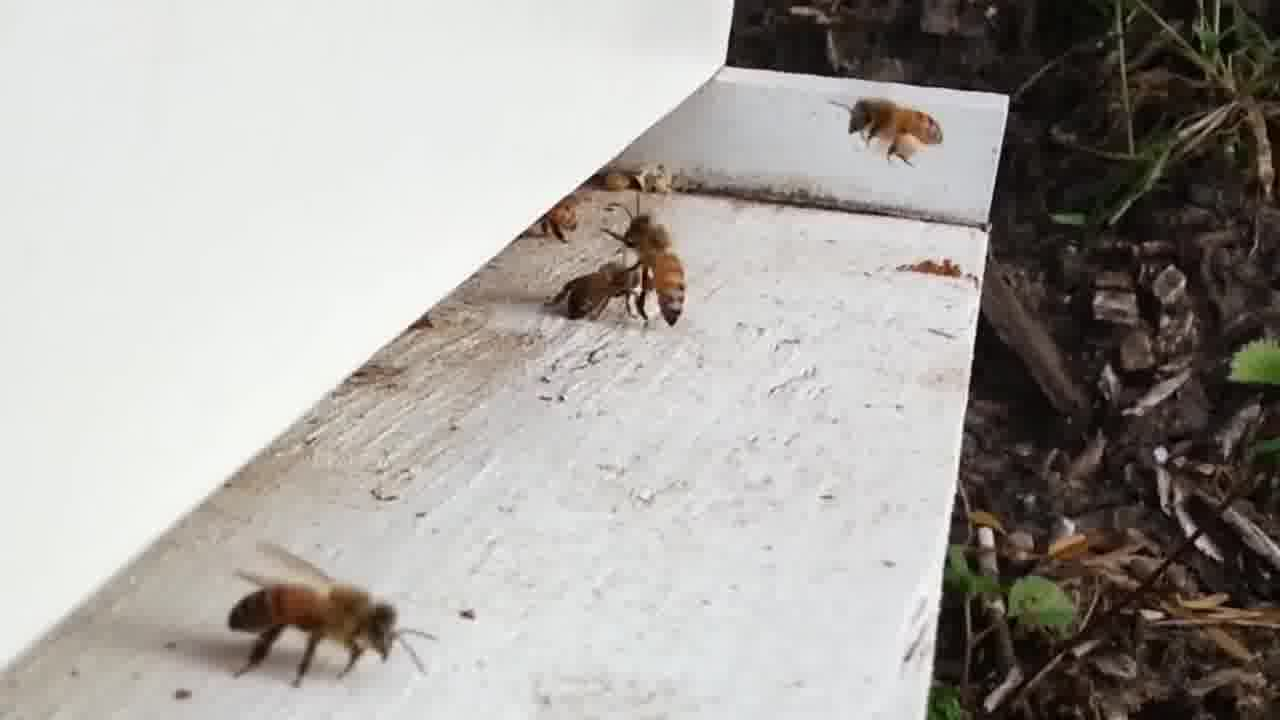pollen: (842, 94, 949, 168)
